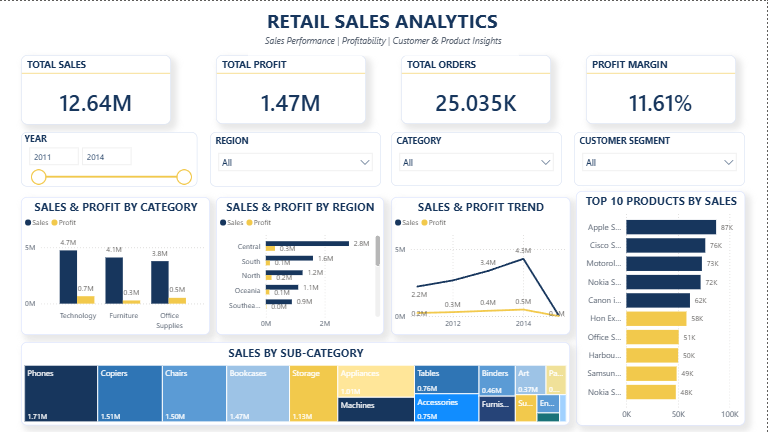

Layout of this report page (visuals, bound fields, positions):
{"tool":"powerbi","page":{"name":"Page 1","canvas":[1280,720],"ordinal":0},"visuals":[{"type":"cardVisual","title":"TOTAL SALES","fields":{"Data":["Sum(retail_sales_analytics superstore.sales)"]},"box":[36.6,90.7,250.2,115.6],"z":0},{"type":"cardVisual","title":"TOTAL PROFIT","fields":{"Data":["Sum(retail_sales_analytics superstore.profit)"]},"box":[361.5,90.7,250,115],"z":1000},{"type":"cardVisual","title":"TOTAL ORDERS","fields":{"Data":["Count(retail_sales_analytics superstore.order_id)"]},"box":[670.2,90.7,250.2,115],"z":2000},{"type":"cardVisual","title":"PROFIT MARGIN","fields":{"Data":["retail_sales_analytics superstore.Profit Margin"]},"box":[977.6,90.7,250,115],"z":3000},{"type":"clusteredColumnChart","title":"SALES & PROFIT BY CATEGORY","fields":{"Category":["retail_sales_analytics superstore.category"],"Y":["Sum(retail_sales_analytics superstore.sales)","Sum(retail_sales_analytics superstore.profit)"]},"box":[36.6,326.3,314.6,229.8],"z":4000},{"type":"lineChart","title":"SALES & PROFIT TREND","fields":{"Category":["retail_sales_analytics superstore.ship_date.Variation.Date Hierarchy.Year"],"Y":["Sum(retail_sales_analytics superstore.sales)","Sum(retail_sales_analytics superstore.profit)"]},"box":[652.7,326.3,298.5,229.8],"z":5000},{"type":"clusteredBarChart","title":"SALES & PROFIT BY REGION","fields":{"Category":["retail_sales_analytics superstore.region"],"Y":["Sum(retail_sales_analytics superstore.sales)","Sum(retail_sales_analytics superstore.profit)"]},"box":[361.5,326.3,279.5,229.8],"z":6000},{"type":"clusteredBarChart","title":"TOP 10 PRODUCTS BY SALES","fields":{"Category":["retail_sales_analytics superstore.product_name"],"Y":["Sum(retail_sales_analytics superstore.sales)"]},"box":[961.5,316.1,282.4,390.7],"z":7000},{"type":"treemap","title":"SALES BY SUB-CATEGORY","fields":{"Group":["retail_sales_analytics superstore.sub_category"],"Values":["Sum(retail_sales_analytics superstore.sales)"]},"box":[36.6,567.8,914.6,139],"z":8000},{"type":"slicer","title":"YEAR","fields":{"Values":["retail_sales_analytics superstore.year"]},"box":[36.6,218,294.1,90.7],"z":9000},{"type":"slicer","title":"REGION","fields":{"Values":["retail_sales_analytics superstore.region"]},"box":[351.2,218,285.4,90.7],"z":10000},{"type":"slicer","title":"CUSTOMER SEGMENT","fields":{"Values":["retail_sales_analytics superstore.segment"]},"box":[958.5,218,285,90],"z":11000},{"type":"slicer","title":"CATEGORY","fields":{"Values":["retail_sales_analytics superstore.category"]},"box":[652.7,218,285,90],"z":12000},{"type":"textbox","box":[403.9,4.4,471.2,54.1],"z":13000},{"type":"textbox","box":[415.6,49.8,450.7,41],"z":14000}]}

Visuals, with their boxes in screenshot pixels (x1, y1, x2, y2), scaled from the page's 1280x720 canvas onto the 768x432 screenshot:
"TOTAL SALES" cardVisual: 22 54 172 124
"TOTAL PROFIT" cardVisual: 217 54 367 123
"TOTAL ORDERS" cardVisual: 402 54 552 123
"PROFIT MARGIN" cardVisual: 587 54 737 123
"SALES & PROFIT BY CATEGORY" clusteredColumnChart: 22 196 211 334
"SALES & PROFIT TREND" lineChart: 392 196 571 334
"SALES & PROFIT BY REGION" clusteredBarChart: 217 196 385 334
"TOP 10 PRODUCTS BY SALES" clusteredBarChart: 577 190 746 424
"SALES BY SUB-CATEGORY" treemap: 22 341 571 424
"YEAR" slicer: 22 131 198 185
"REGION" slicer: 211 131 382 185
"CUSTOMER SEGMENT" slicer: 575 131 746 185
"CATEGORY" slicer: 392 131 563 185
textbox: 242 3 525 35
textbox: 249 30 520 54
